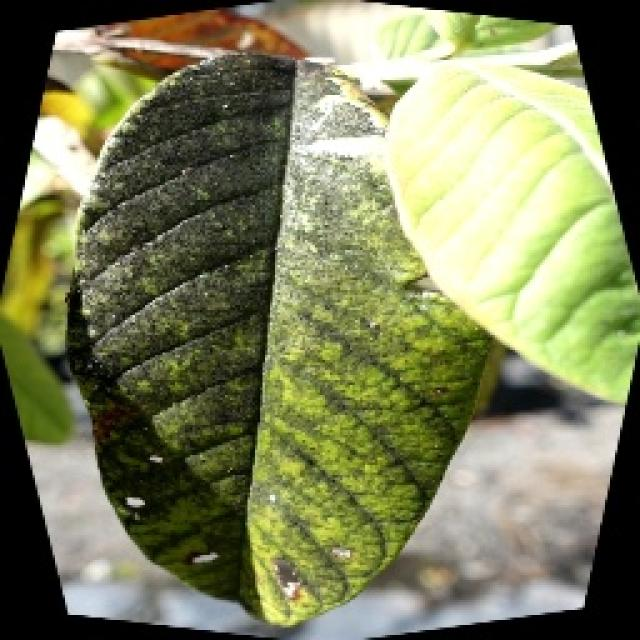Sooty Mold: (63, 48, 505, 628)
